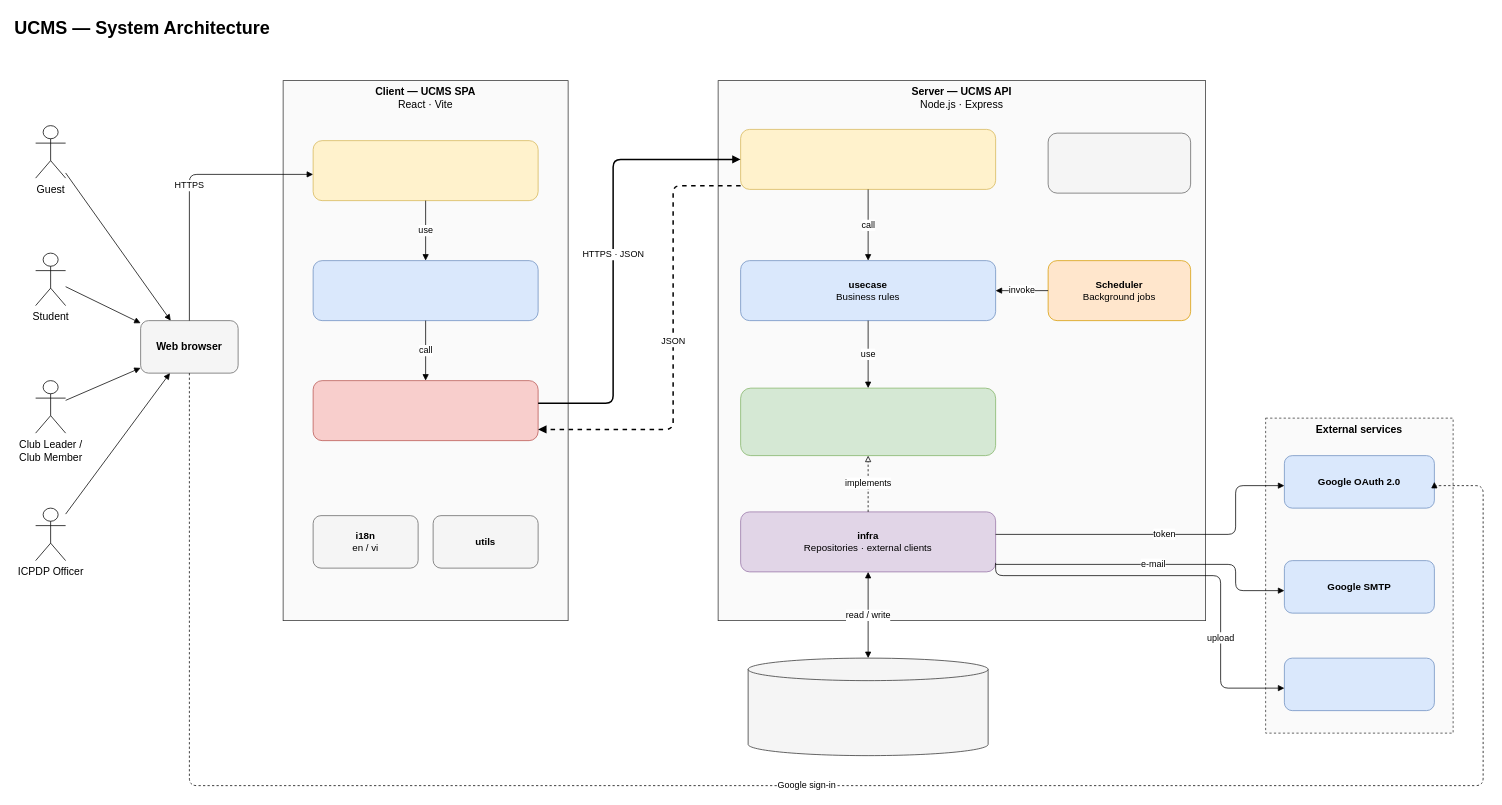
Image size: 1502x805. Some labels were removed from this diagram. Each missing label, with the centre of its shape:
Cloudinary: the point at 1359,684
domain Entities · ports: the point at 868,421
hooks TanStack Query: the point at 425,290
interface/http REST API · auth · validation: the point at 868,159
main.ts Composition root: the point at 1119,162
MongoDB: the point at 867,706
pages / components UI screens: the point at 425,170
services API calls: the point at 425,410
